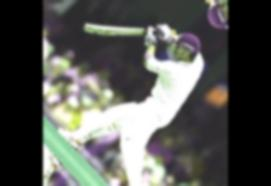batsman: (57, 0, 226, 186)
